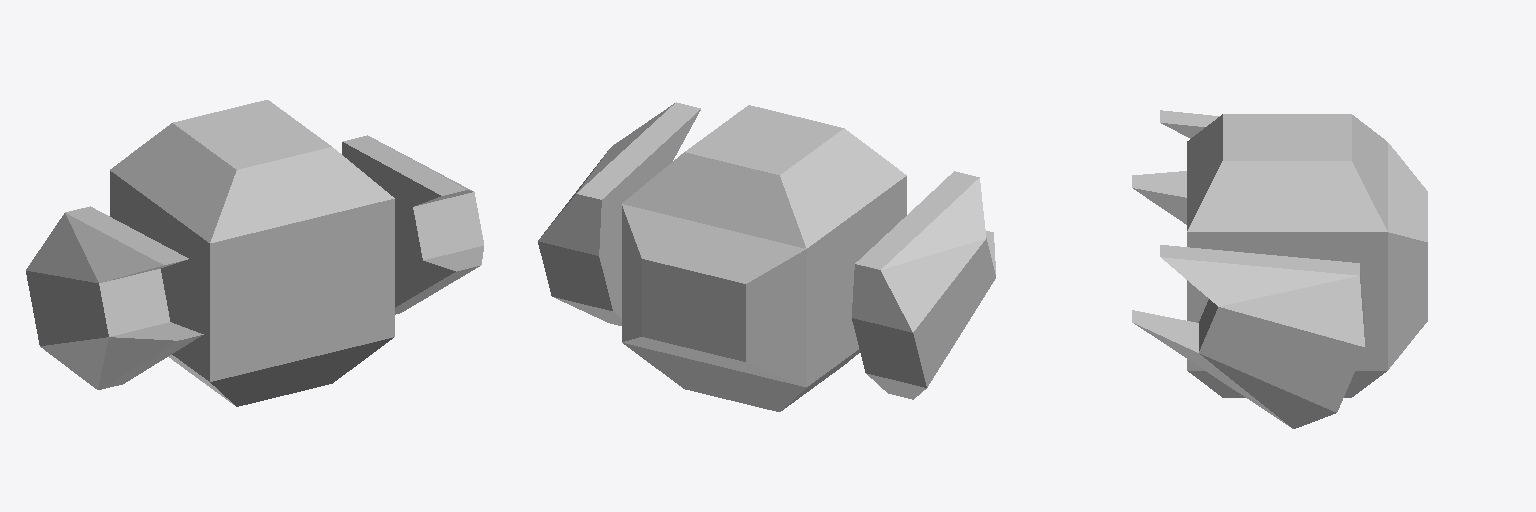
The model's file is player.obj.
3 views of the same model, side by side, from view 1: azimuth 30°, elevation 25°; view 2: azimuth 150°, elevation 25°; view 3: azimuth 270°, elevation 25° (orthographic).
Visible parts, largest first — view 1: 立方体.002_立方体.003, 立方体.001_立方体.002, 立方体_立方体.001; view 2: 立方体.002_立方体.003, 立方体.001_立方体.002, 立方体_立方体.001; view 3: 立方体.002_立方体.003, 立方体_立方体.001, 立方体.001_立方体.002.
Part boxes in pixels (left/top/right/bottom): 立方体.002_立方体.003: left=110, top=100, right=394, bottom=406; 立方体.001_立方体.002: left=26, top=206, right=203, bottom=389; 立方体_立方体.001: left=342, top=135, right=483, bottom=314; 立方体.002_立方体.003: left=622, top=105, right=906, bottom=411; 立方体.001_立方体.002: left=852, top=171, right=995, bottom=399; 立方体_立方体.001: left=538, top=102, right=700, bottom=325; 立方体.002_立方体.003: left=1187, top=114, right=1427, bottom=397; 立方体_立方体.001: left=1132, top=245, right=1364, bottom=428; 立方体.001_立方体.002: left=1132, top=110, right=1219, bottom=224.
Bounding box in the file's own units: 2.96 × 1.79 × 2.02.